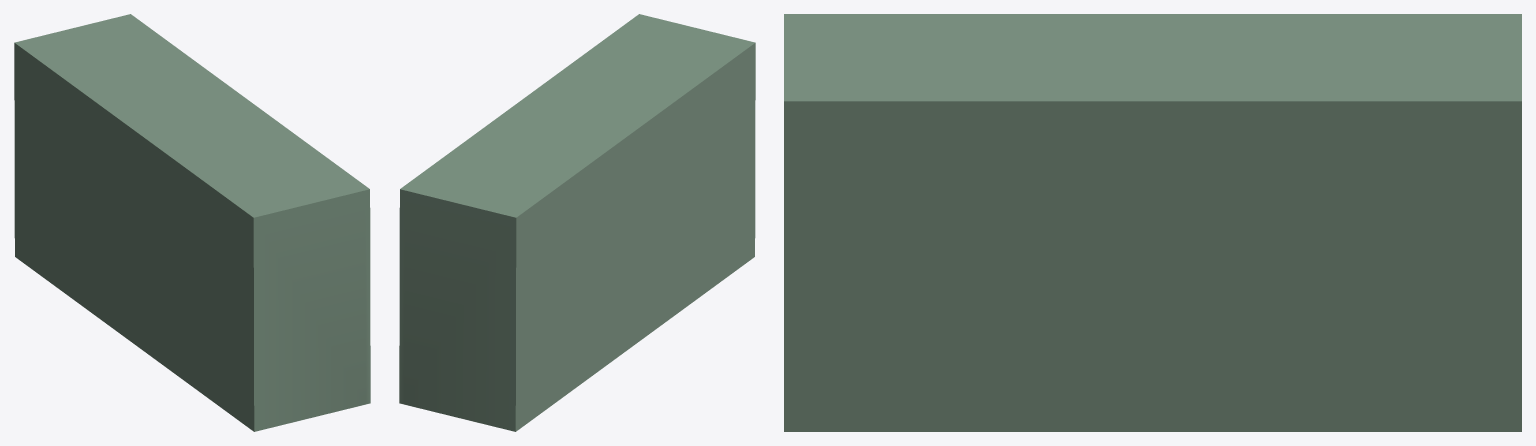
File: MSH_QuestObject_cabinet_09.fbx
3 renders of one model, left to right at view 1: azimuth 30°, elevation 25°; view 2: azimuth 150°, elevation 25°; view 3: azimuth 270°, elevation 25°, orthographic. The views are drawn at different scales.
Visible parts, largest first — view 1: MSH_QuestObject_cabinet_09; view 2: MSH_QuestObject_cabinet_09; view 3: MSH_QuestObject_cabinet_09.
Boxes of the visible parts, <box> form: MSH_QuestObject_cabinet_09: <box>14,14,370,431</box>; MSH_QuestObject_cabinet_09: <box>399,14,755,431</box>; MSH_QuestObject_cabinet_09: <box>784,14,1521,431</box>.
Size of the model in its own units: 0.7184 by 1.26 by 2.55.
